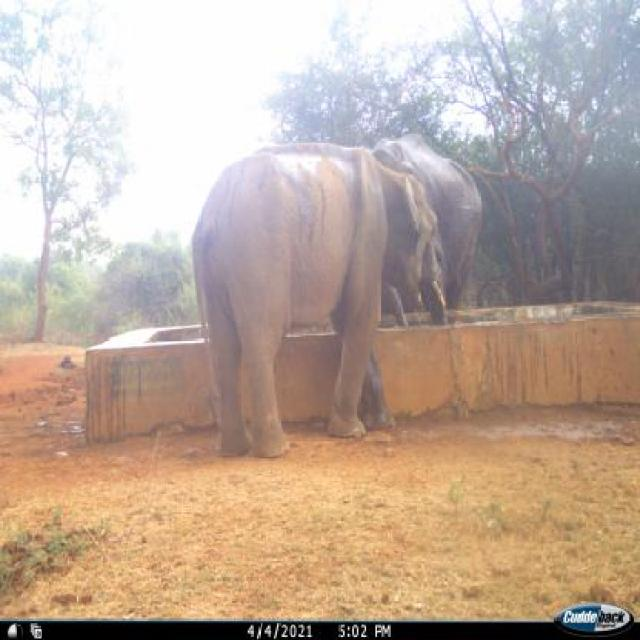Elephant: (193, 144, 402, 456)
